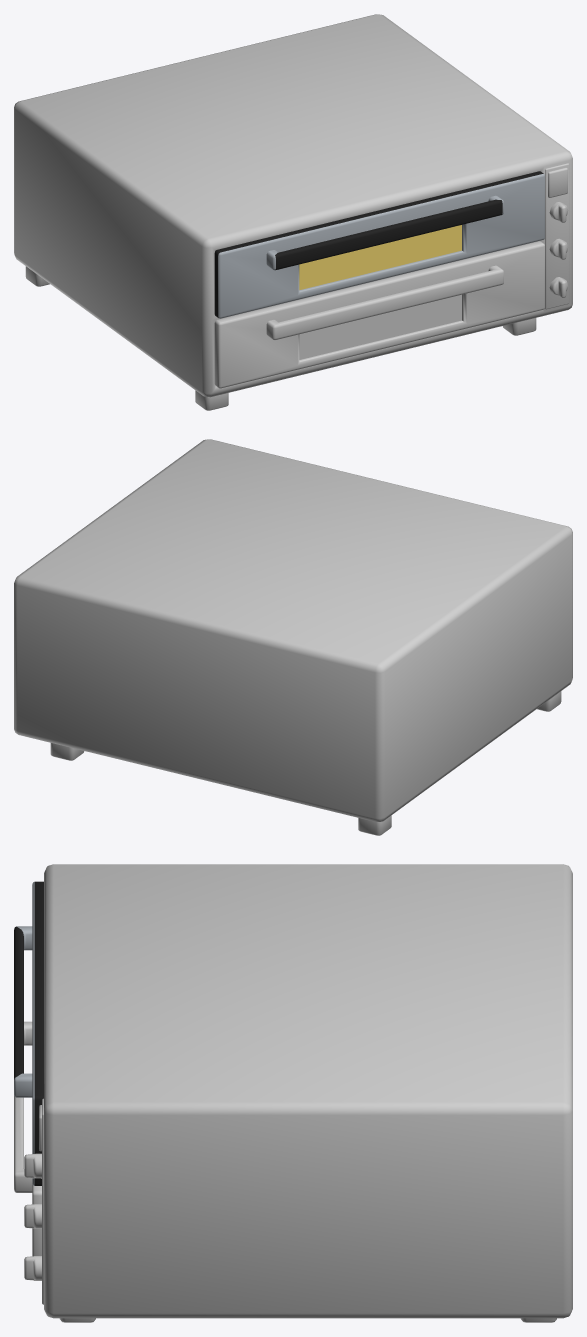
Rendered from Pizza-Oven.fbx.
3 views of the same model, one above another, from view 1: azimuth 30°, elevation 25°; view 2: azimuth 150°, elevation 25°; view 3: azimuth 270°, elevation 25° (orthographic). The views are drawn at different scales.
Parts seen in each view (by area): view 1: Pizza-Oven, Pizza-Oven-Cover-2, Pizza-Oven-Cover-1; view 2: Pizza-Oven; view 3: Pizza-Oven, Pizza-Oven-Cover-2, Pizza-Oven-Cover-1.
Boxes of the visible parts, box(x1,y1,x2,y2) form: Pizza-Oven: box(14, 14, 572, 410); Pizza-Oven-Cover-2: box(214, 171, 544, 318); Pizza-Oven-Cover-1: box(214, 241, 544, 388); Pizza-Oven: box(14, 439, 572, 835); Pizza-Oven: box(24, 864, 572, 1322); Pizza-Oven-Cover-2: box(14, 881, 43, 1185); Pizza-Oven-Cover-1: box(14, 1021, 41, 1280).
Bounding box in the file's own units: 1.1 × 0.4992 × 1.06.
